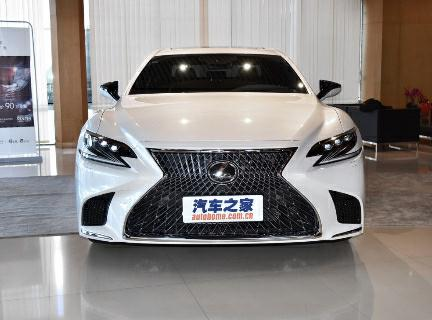雷克萨斯-LS: (73, 47, 373, 256)
